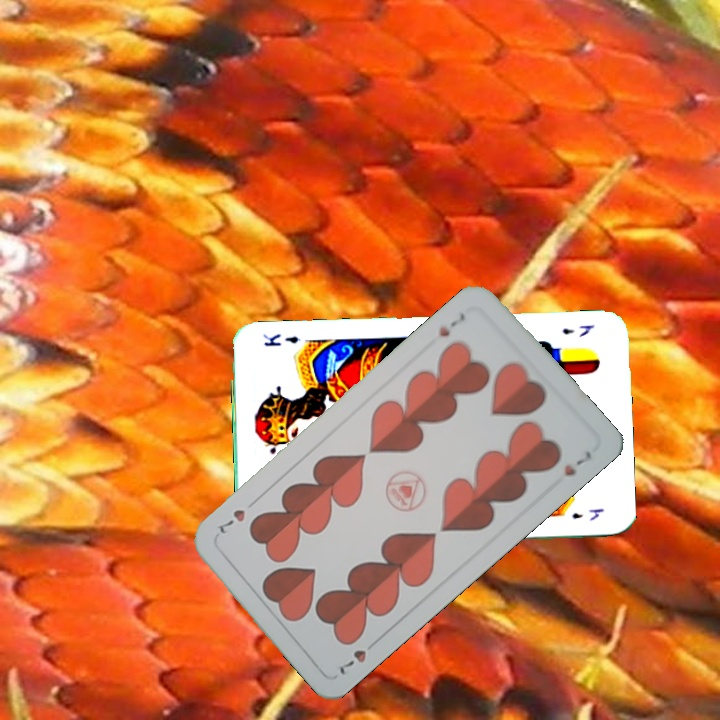EK: (558, 321, 597, 340)
H7: (335, 645, 369, 678), (434, 309, 468, 340)
